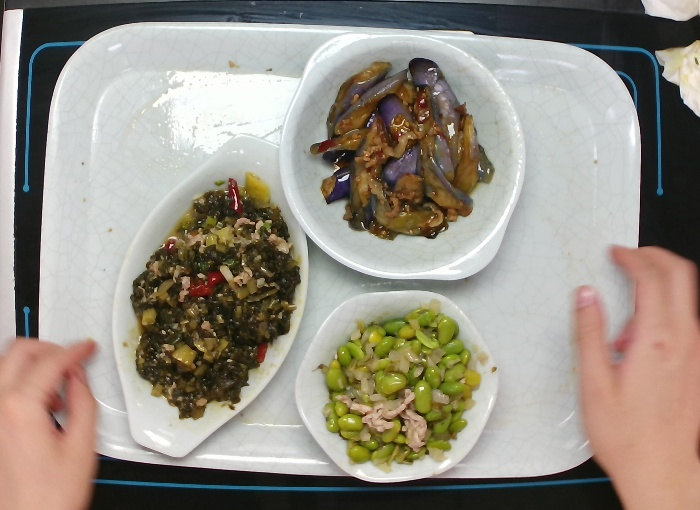JYsf-Shuang_Er_Wan: (273, 26, 531, 287)
WCQzf-Hua_Duo_Wan: (289, 283, 503, 487)
